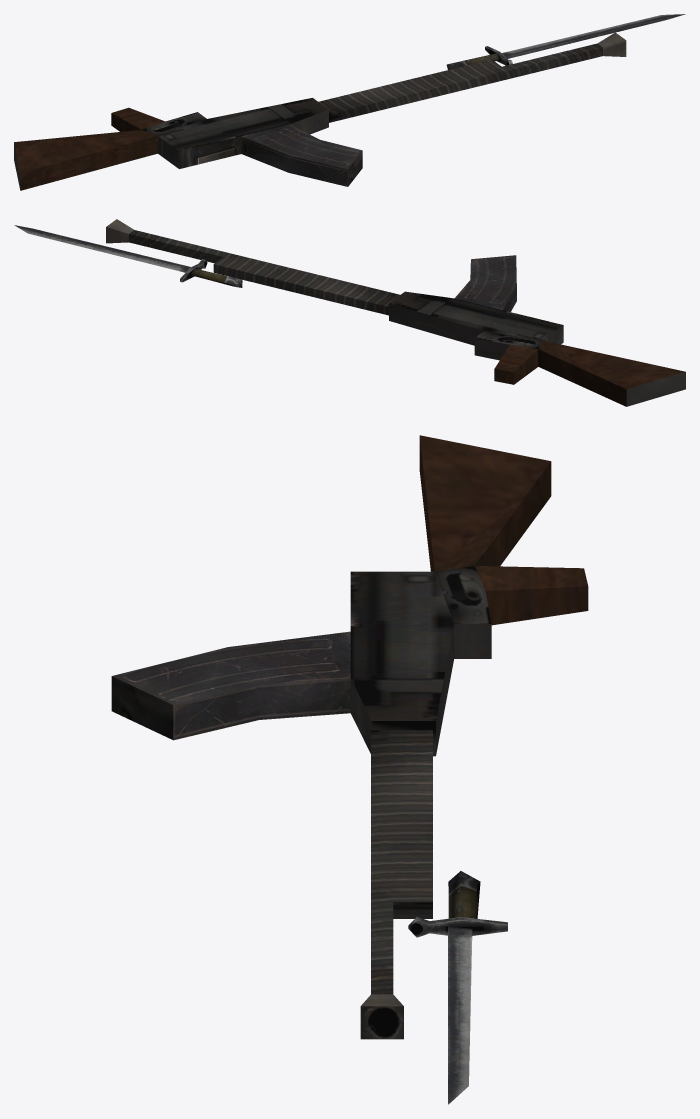
Rendered from weapon_jap_type99_bayonet_lmg_LOD21.obj.
3 renders of one model, top to bottom at view 1: azimuth 30°, elevation 25°; view 2: azimuth 150°, elevation 25°; view 3: azimuth 270°, elevation 25°, orthographic. The views are drawn at different scales.
Parts seen in each view (by area): view 1: TomGroup_0, TomGroup_2, TomGroup_1; view 2: TomGroup_0, TomGroup_2, TomGroup_1; view 3: TomGroup_0, TomGroup_2, TomGroup_1.
Boxes of the visible parts, bbox=[...] form: TomGroup_0: bbox=[14, 32, 626, 189]; TomGroup_2: bbox=[14, 107, 164, 190]; TomGroup_1: bbox=[446, 14, 685, 69]; TomGroup_0: bbox=[106, 219, 685, 406]; TomGroup_2: bbox=[494, 340, 685, 406]; TomGroup_1: bbox=[14, 225, 242, 287]; TomGroup_0: bbox=[111, 566, 491, 1039]; TomGroup_2: bbox=[419, 435, 588, 625]; TomGroup_1: bbox=[408, 871, 507, 1104].
Size of the model in its own units: 147 by 3.73 by 45.74.
Materials: 2 (2 with a texture image).
